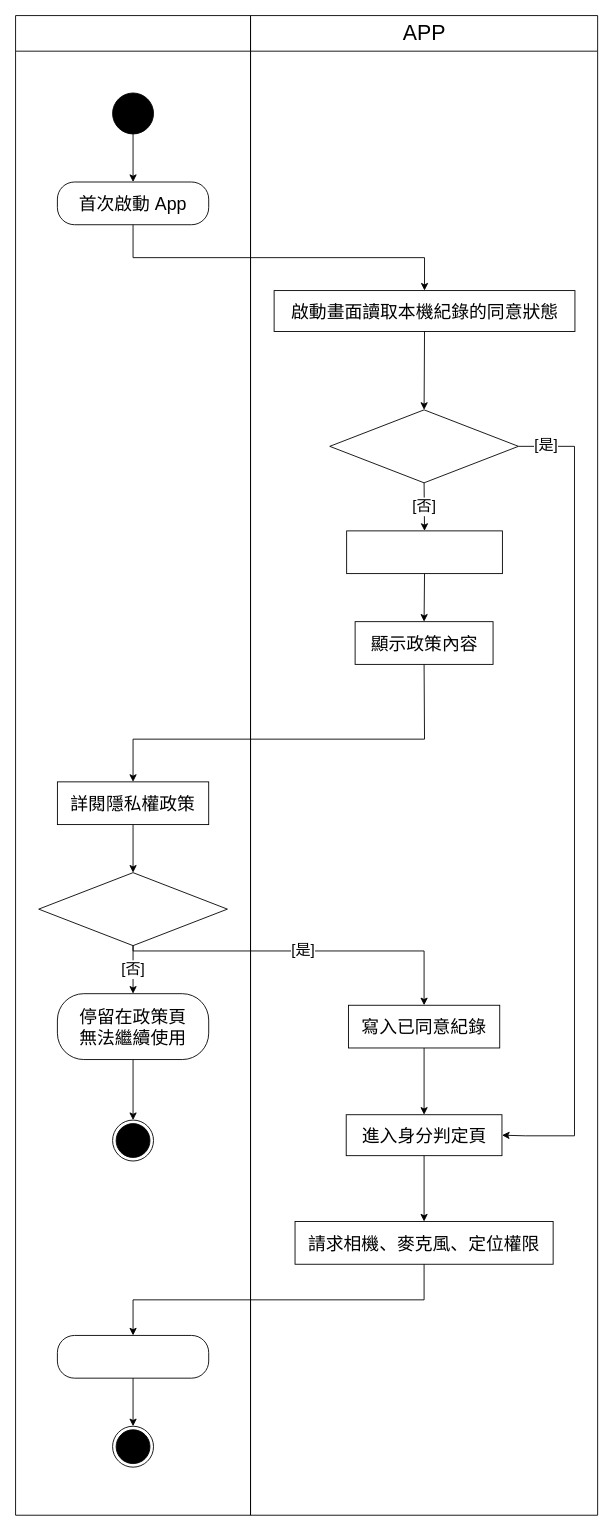
This 613x1531 diagram has some shape labels left out. The shapes that lost their labels are listed below. From the top down, each one's box as (x1, y1, x2, y2) in pixels, then its label:
(329, 409, 518, 483): 已同意過？
(346, 530, 502, 574): 轉到隱私政策頁
(15, 15, 251, 1515): 長輩或家屬
(38, 872, 227, 946): 是否同意？
(57, 1335, 209, 1378): 進入後續流程
